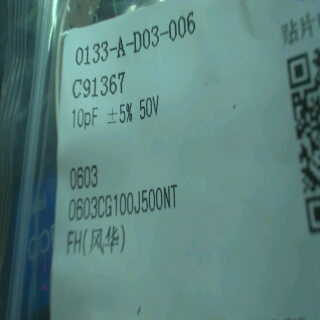10pF: (66, 101, 102, 140)
